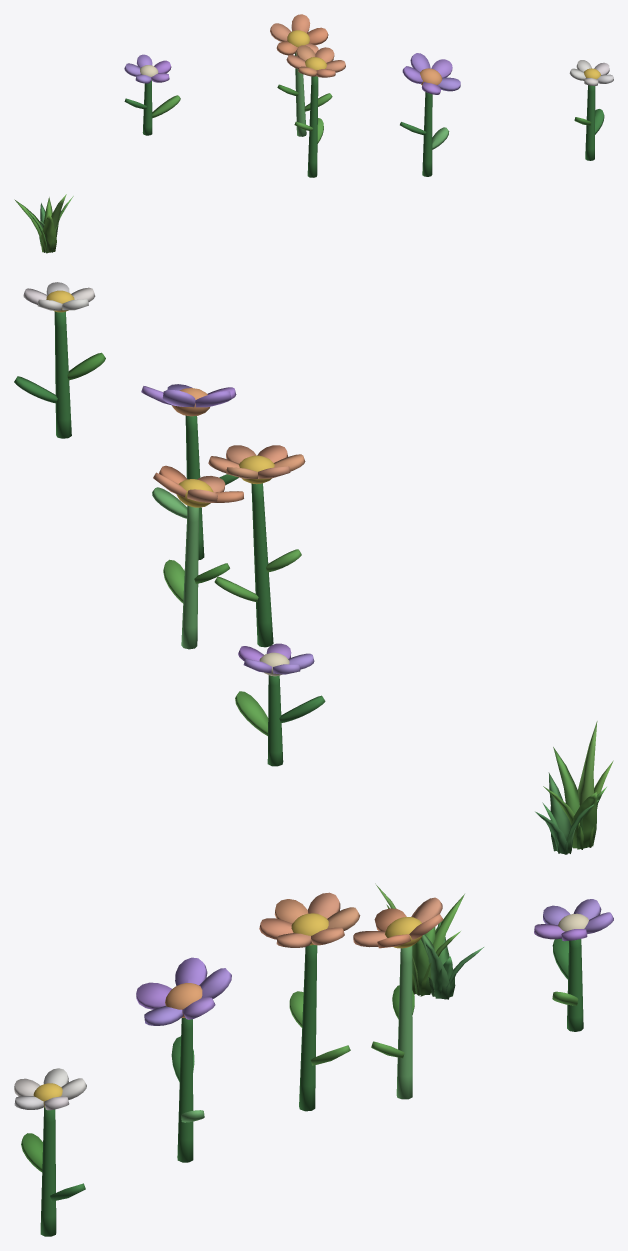
Rendered from W1_FloraRing_12_11.fbx.
3 views of the same model, one above another, from view 1: azimuth 30°, elevation 25°; view 2: azimuth 150°, elevation 25°; view 3: azimuth 270°, elevation 25° (orthographic). The views are drawn at different scales.
Visible parts, largest first — view 1: W1_FloraRing_12_11; view 2: W1_FloraRing_12_11; view 3: W1_FloraRing_12_11.
Part boxes in pixels (box(x1,y1,x2,y2)): W1_FloraRing_12_11: box(14, 14, 613, 253); W1_FloraRing_12_11: box(14, 282, 613, 854); W1_FloraRing_12_11: box(14, 883, 613, 1236).
Bounding box in the file's own units: 0.9383 × 0.322 × 0.6077.
